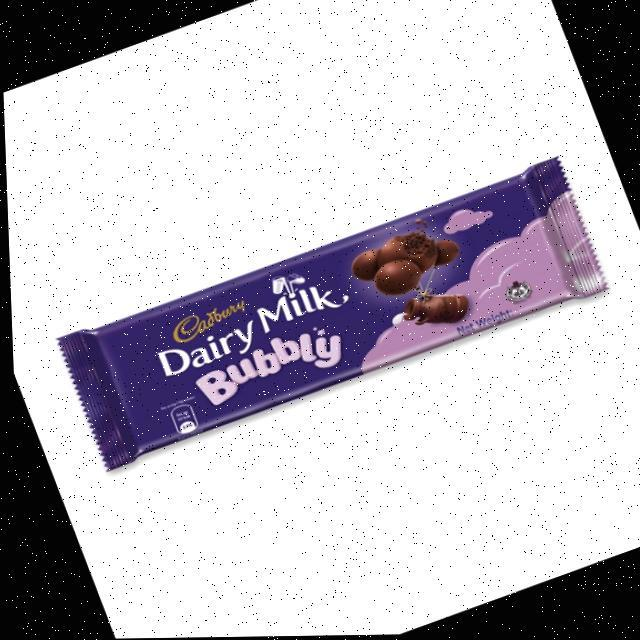cadbury_chocolate: (100, 158, 563, 468)
